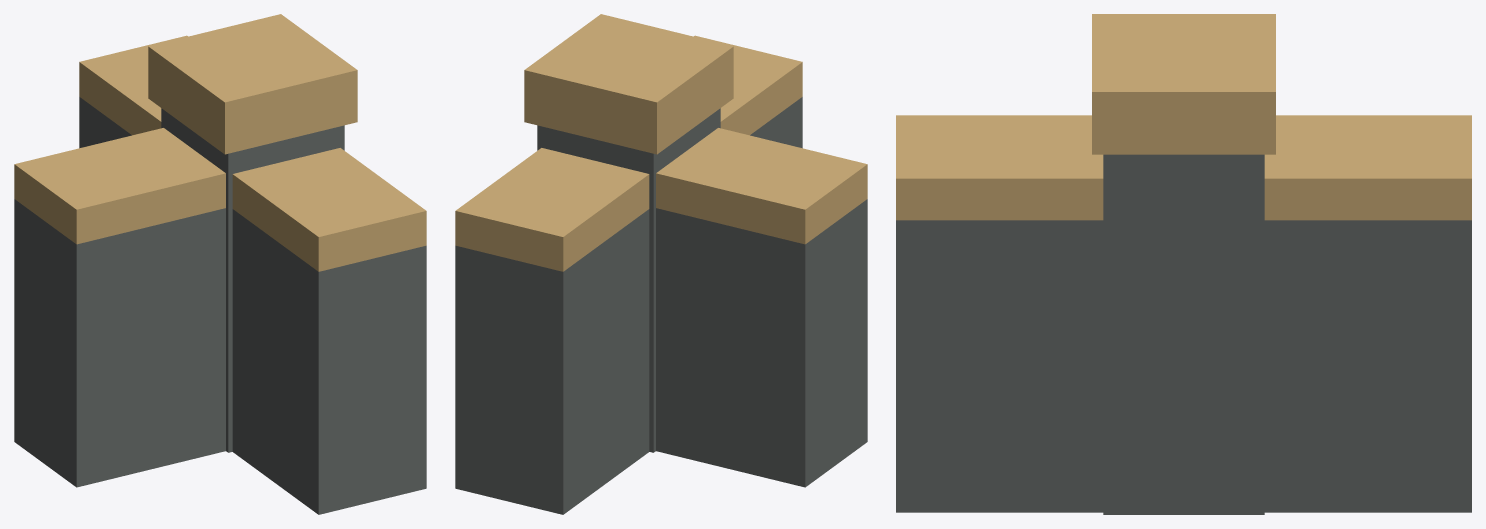
File: SmartWallTee.fbx
3 renders of one model, left to right at view 1: azimuth 30°, elevation 25°; view 2: azimuth 150°, elevation 25°; view 3: azimuth 270°, elevation 25°, orthographic. The views are drawn at different scales.
Visible parts, largest first — view 1: SmartWallTee; view 2: SmartWallTee; view 3: SmartWallTee.
Boxes of the visible parts, left/top/right/bottom form: SmartWallTee: left=14, top=14, right=426, bottom=514; SmartWallTee: left=455, top=14, right=867, bottom=514; SmartWallTee: left=896, top=14, right=1471, bottom=514.
Bounding box in the file's own units: 66 × 82 × 100.
